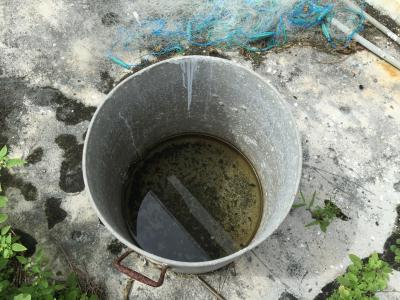bucket: (80, 52, 307, 288)
